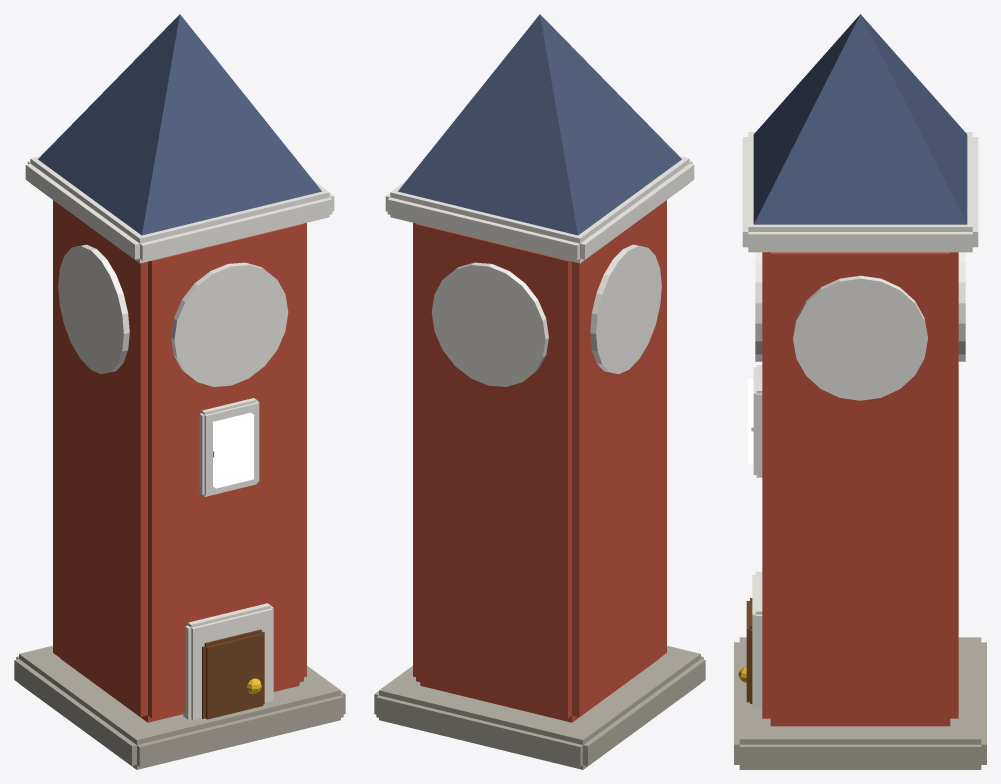
The model's file is clocktower.glb.
3 views of the same model, side by side, from view 1: azimuth 30°, elevation 25°; view 2: azimuth 150°, elevation 25°; view 3: azimuth 270°, elevation 25° (orthographic). The views are drawn at different scales.
Visible parts, largest first — view 1: clocktower; view 2: clocktower; view 3: clocktower.
Part boxes in pixels (x1,y1,x2,y2): clocktower: (14,14,345,769); clocktower: (374,14,705,769); clocktower: (734,14,986,769).
Bounding box in the file's own units: 0.9 × 2.77 × 0.9.
